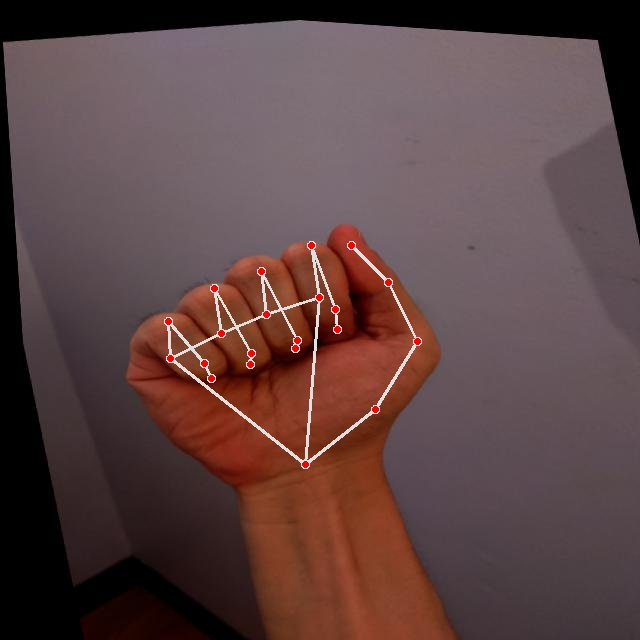A: (82, 189, 468, 509)
